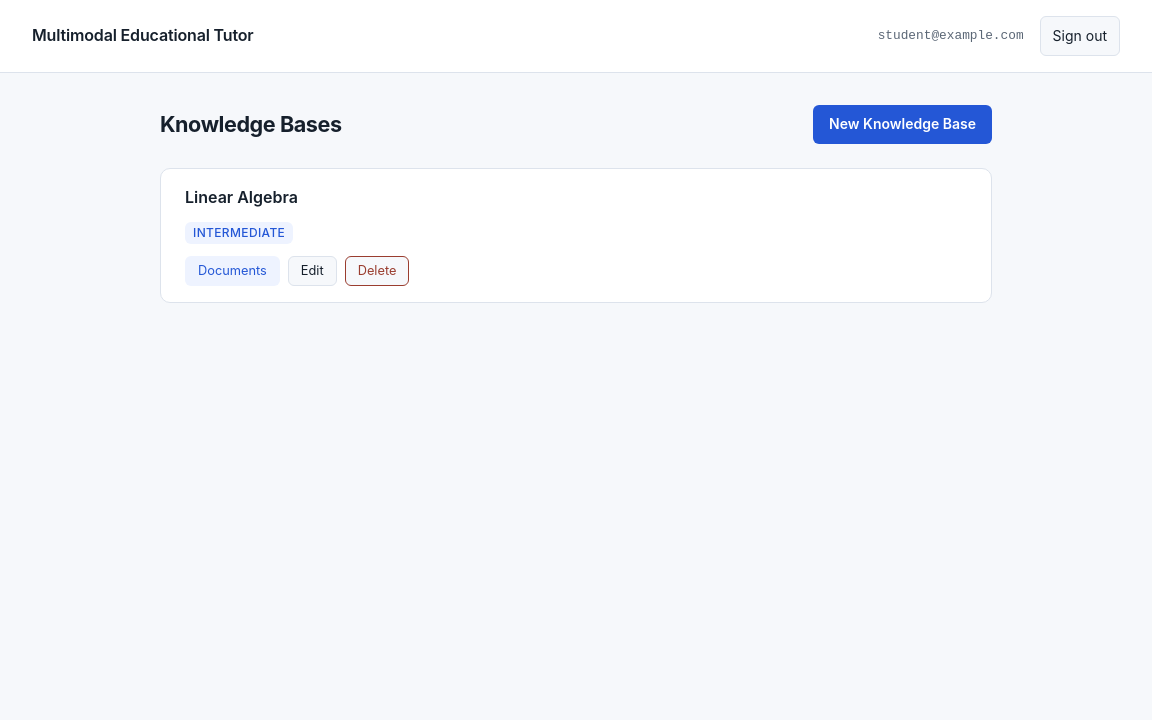
Test: Knowledge Base list › opens the edit form pre-filled with the Knowledge Base data
Expected: the text "Linear Algebra" is shown, left=185, top=185, right=298, bottom=210
Click the button "Edit" at [312, 271], box left=288, top=256, right=337, bottom=286
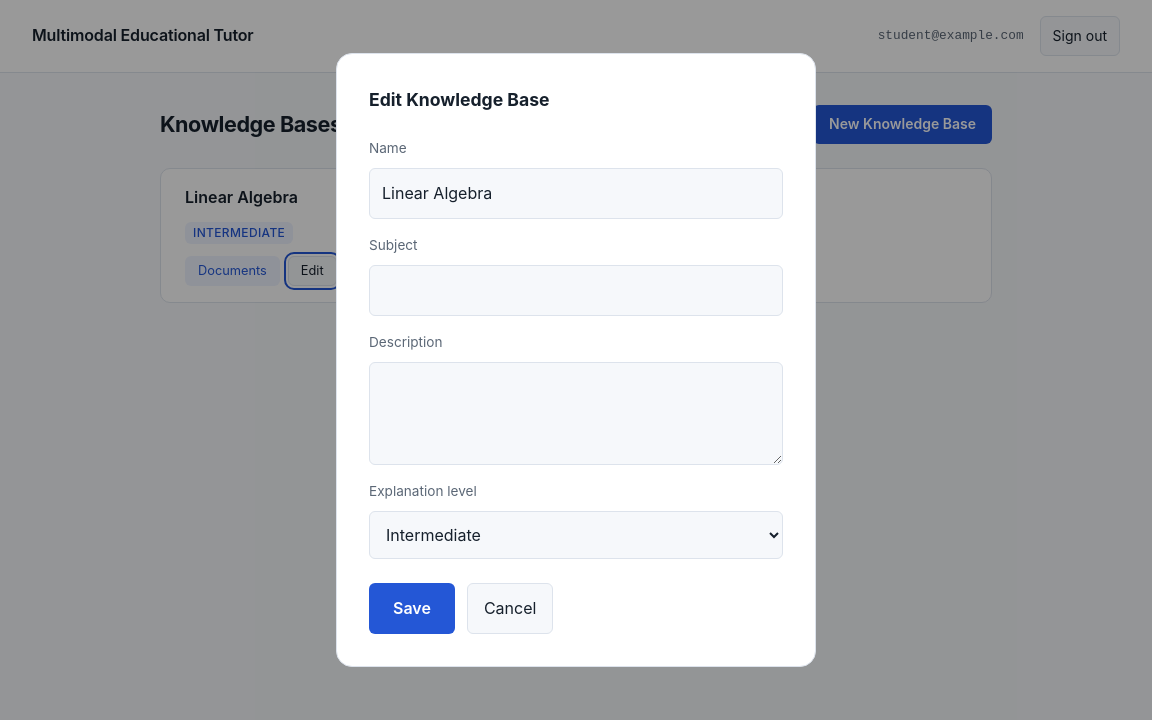
Expected: the dialog is shown, left=336, top=53, right=816, bottom=667
Expected: the heading "Edit Knowledge Base" is shown, left=369, top=89, right=550, bottom=110
Expected: the field labelled "Name" holds "Linear Algebra", left=369, top=168, right=783, bottom=219
